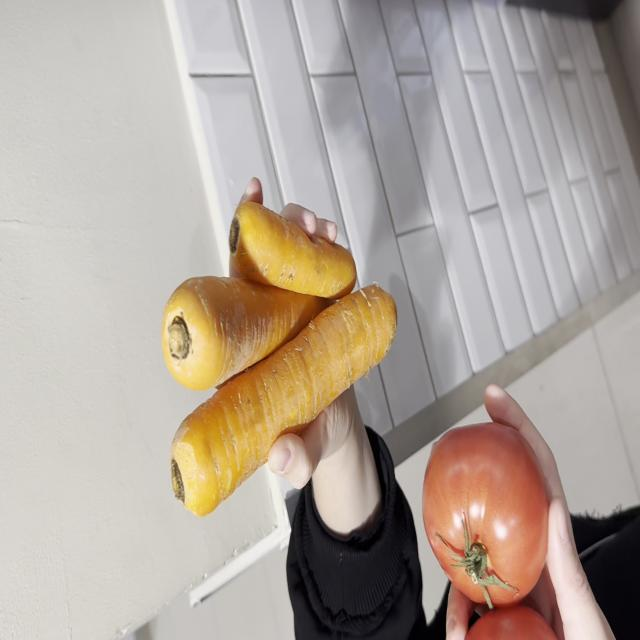carrot: (171, 285, 396, 516), (161, 276, 330, 390), (229, 201, 356, 298)
tomato: (422, 421, 549, 607), (465, 604, 558, 640)
